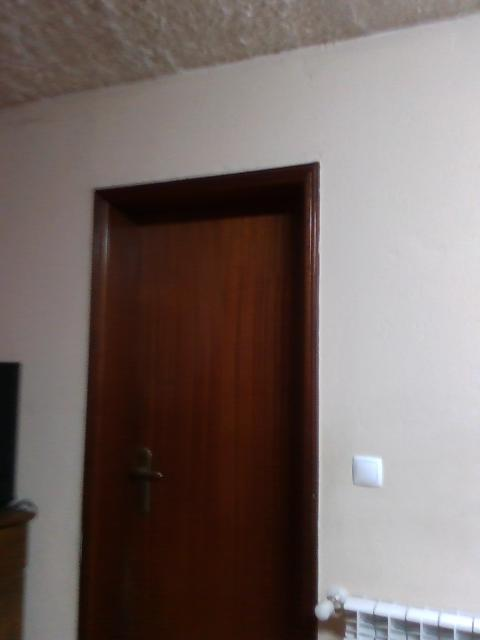door: (102, 201, 307, 640)
